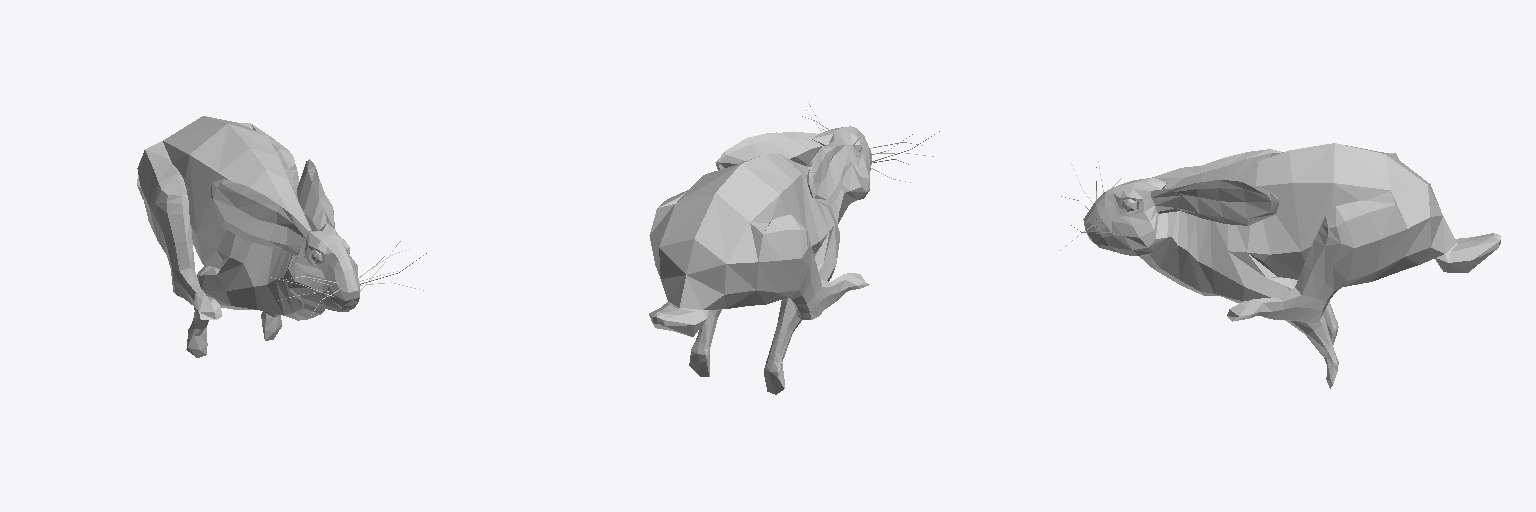
The model's file is rabbit_000013.obj.
3 renders of one model, left to right at view 1: azimuth 30°, elevation 25°; view 2: azimuth 150°, elevation 25°; view 3: azimuth 270°, elevation 25°, orthographic.
Parts seen in each view (by area): view 1: Rabbit_Cylinder; view 2: Rabbit_Cylinder; view 3: Rabbit_Cylinder.
Boxes of the visible parts, x1=… form: Rabbit_Cylinder: x1=137, y1=116, x2=426, y2=357; Rabbit_Cylinder: x1=649, y1=102, x2=939, y2=394; Rabbit_Cylinder: x1=1060, y1=143, x2=1501, y2=388.
Bounding box in the file's own units: 8.03 × 10.91 × 19.46.